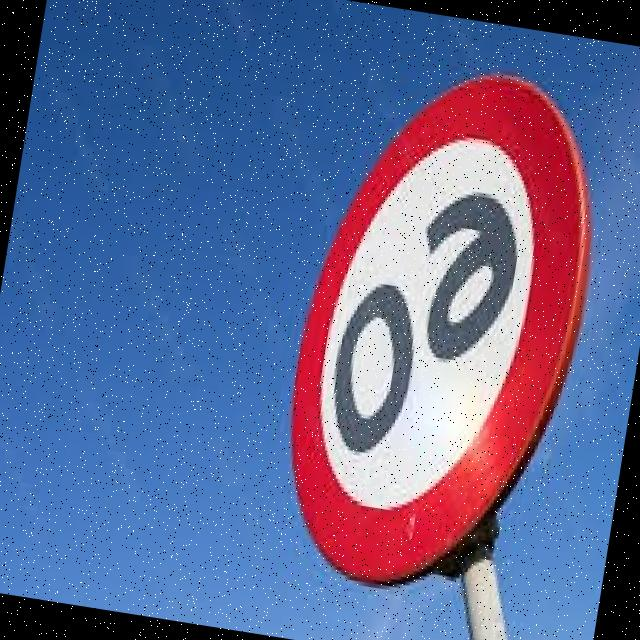speed_limit_60: (251, 32, 615, 617)
